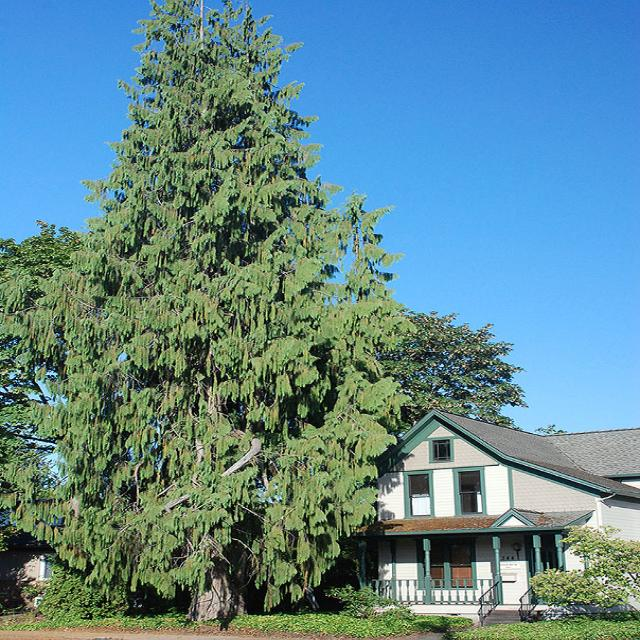Cupressus nootkatensis: (4, 6, 406, 611)
